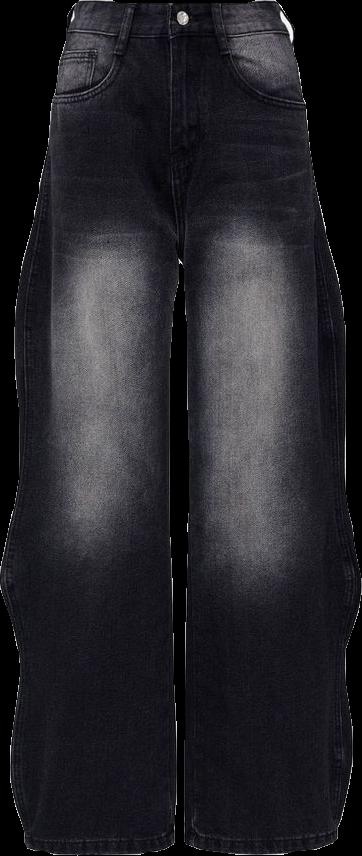Hemline: (180, 828, 339, 855), (24, 837, 173, 855)
Pantleg: (166, 0, 360, 853), (0, 1, 177, 854)
Waistline: (63, 20, 292, 42), (73, 0, 282, 11)
